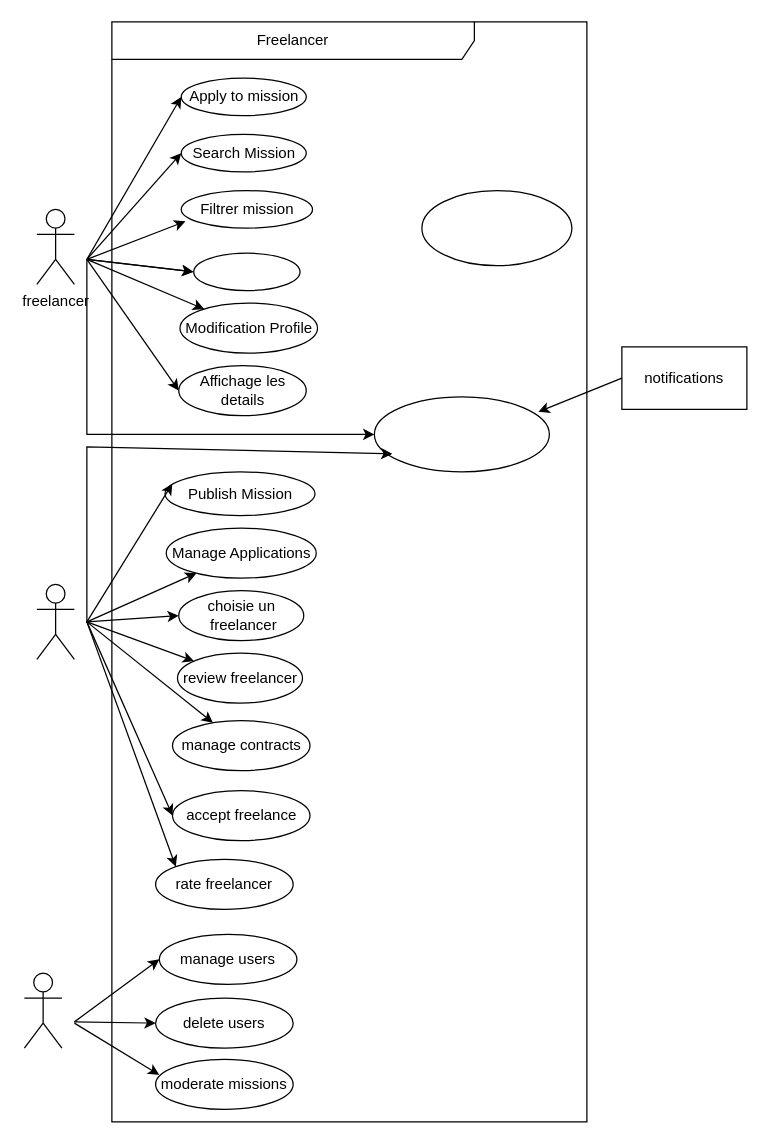
Some shapes in this 769 by 1144 pixel diagram are drawn without their labels. The box of each missing label's shape, as (x1, y1, x2, y2) in pixels:
Admin: (23, 972, 62, 1048)
Authentification: (421, 189, 572, 266)
client: (36, 583, 74, 659)
notify etat de mission: (373, 396, 549, 472)
rate client: (192, 252, 300, 291)
